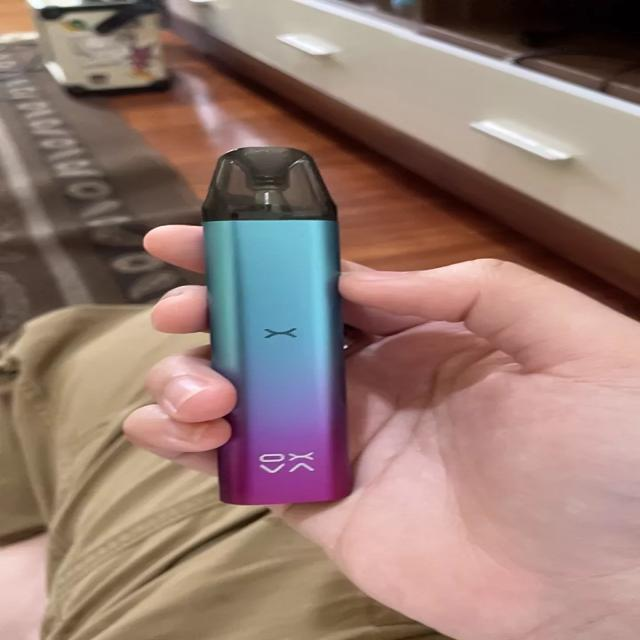Hazard: (204, 145, 350, 505)
